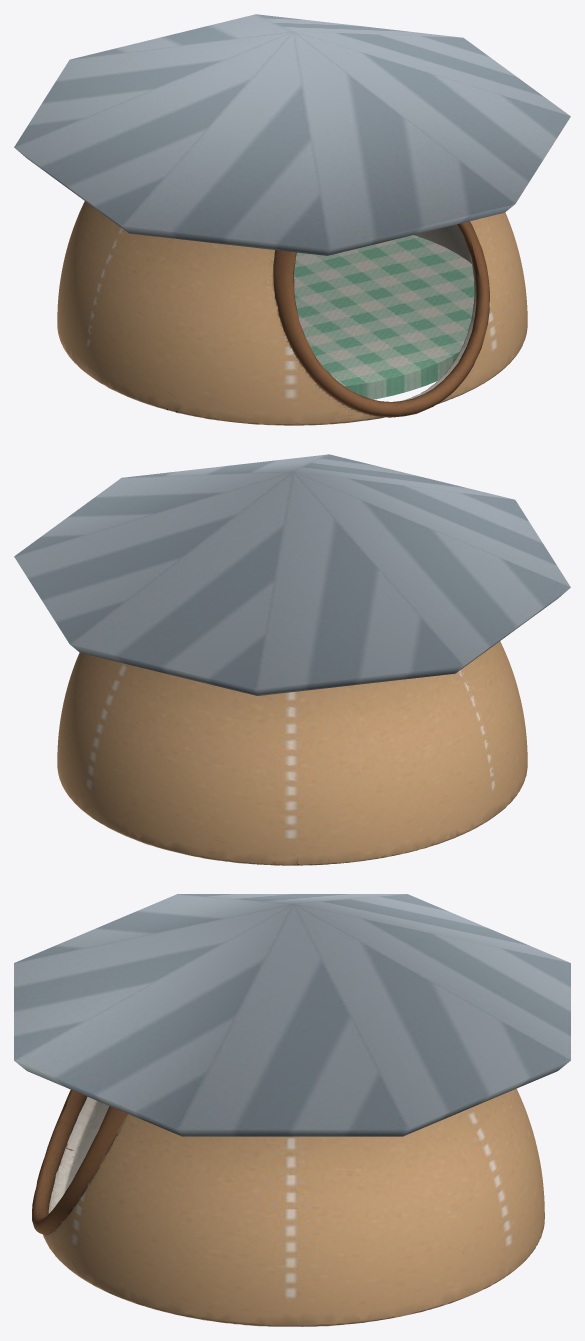
The model's file is hanok_hideout.glb.
3 views of the same model, one above another, from view 1: azimuth 30°, elevation 25°; view 2: azimuth 150°, elevation 25°; view 3: azimuth 270°, elevation 25° (orthographic). The views are drawn at different scales.
Visible parts, largest first — view 1: hanok_hideout; view 2: hanok_hideout; view 3: hanok_hideout.
Part boxes in pixels (x1,y1,x2,y2): hanok_hideout: (14, 14, 570, 425); hanok_hideout: (14, 454, 570, 865); hanok_hideout: (14, 894, 570, 1326).
Bounding box in the file's own units: 1.59 × 1 × 1.59.
1 material, 1 textured.
